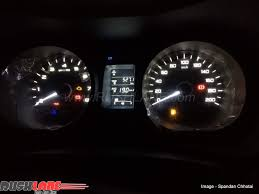Digital_Meter: (110, 76, 137, 86)
